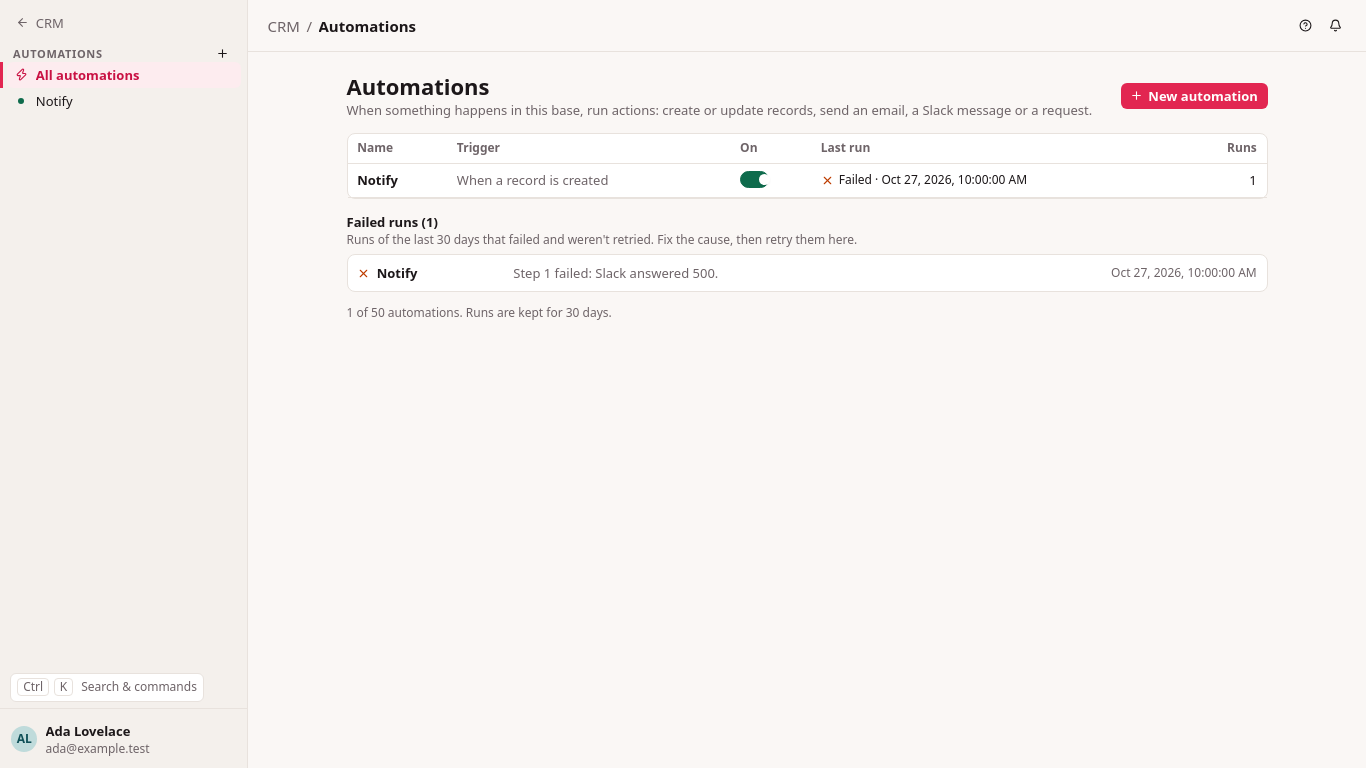
Test: automations builder (#111) › lists failed runs of every automation and retries one from the list (#126)
The image size is (1366, 768).
Expected: the heading "Failed runs (1)" is shown, [346,213,438,231]
Expected: the list item shows "Slack answered 500", [513,264,718,282]
What coordinates should you click on to do the following:
click the text "Notify"
I would click on:
 (397, 273)
Its box is [377,264,418,282].
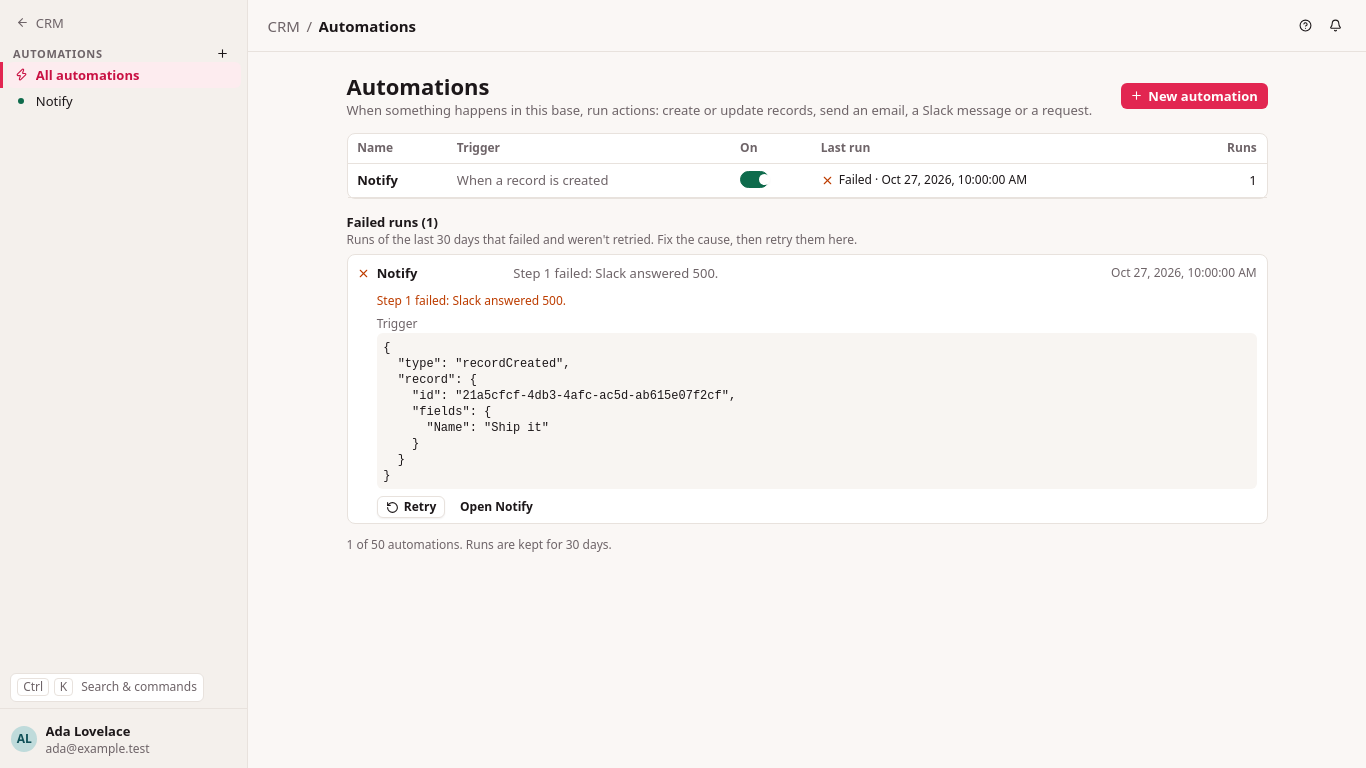
What coordinates should you click on to do the following:
click the button "Retry"
I would click on:
 (411, 507)
Its box is [377,496,445,518].
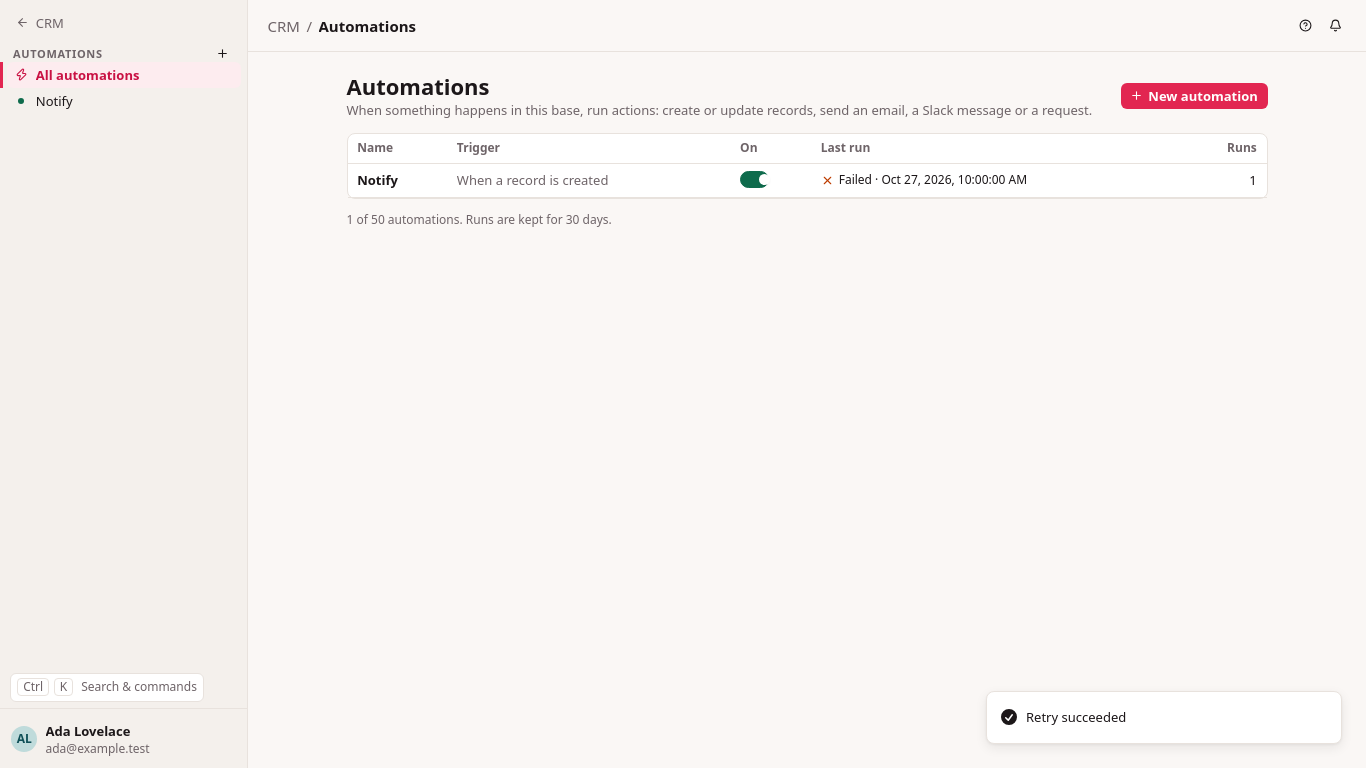
Expected: the heading "Failed runs" is gone
